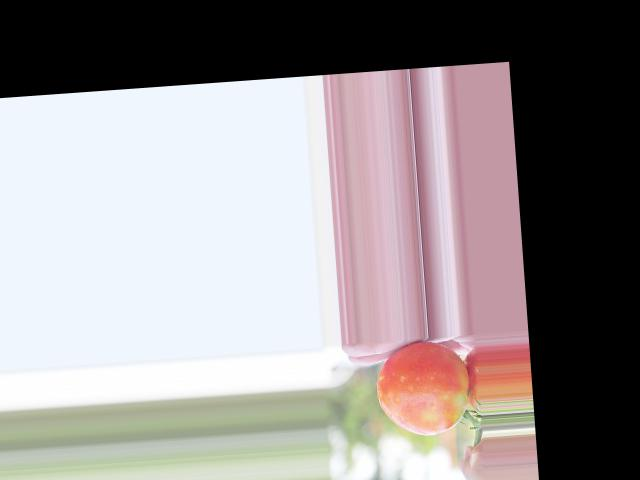tomato: (374, 339, 471, 438)
